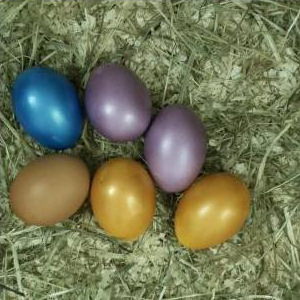egg: (174, 172, 251, 249), (11, 153, 90, 226), (13, 68, 83, 149), (145, 107, 206, 191), (84, 64, 150, 141), (90, 159, 156, 235)
